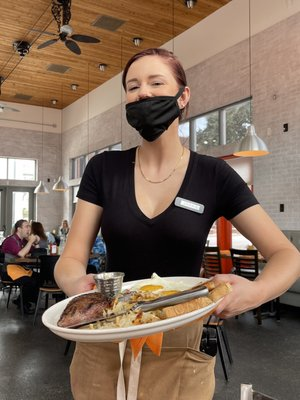pizza: (94, 272, 125, 302)
